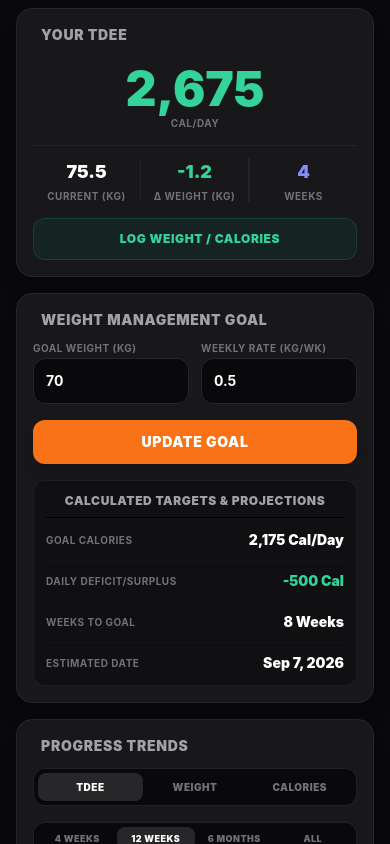
Test: TDEEScreen › chart tabs › switches back to the TDEE tab
Click the element with test id "chart-tab-weight": (195, 787) [173,781,217,793]
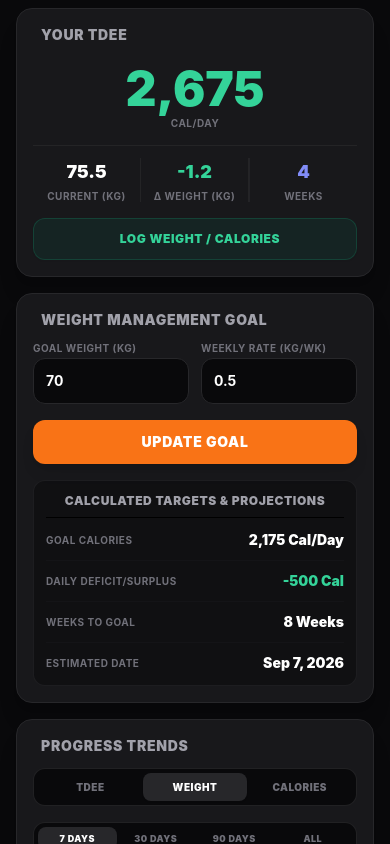
Click the element with test id "chart-tab-tdee": (90, 787) [76,781,105,793]
(page scrolled)
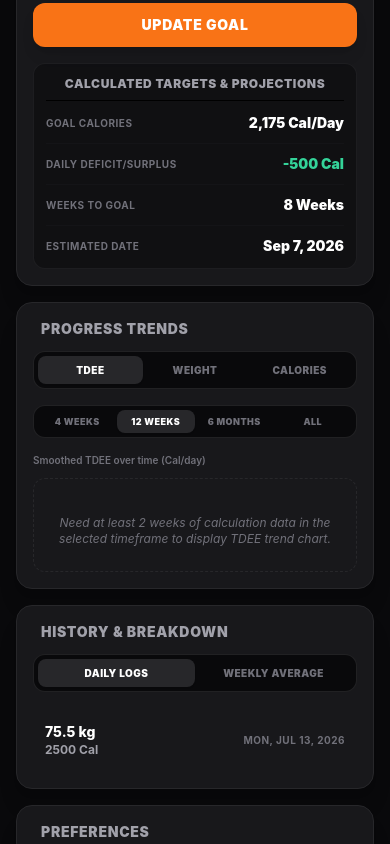
Expected: the element with test id "timeframe-4w" is shown, [55,416,100,427]
Now the text "Smoothed TDEE over time (Cal/day)" is shown, box [33,454,206,466]
